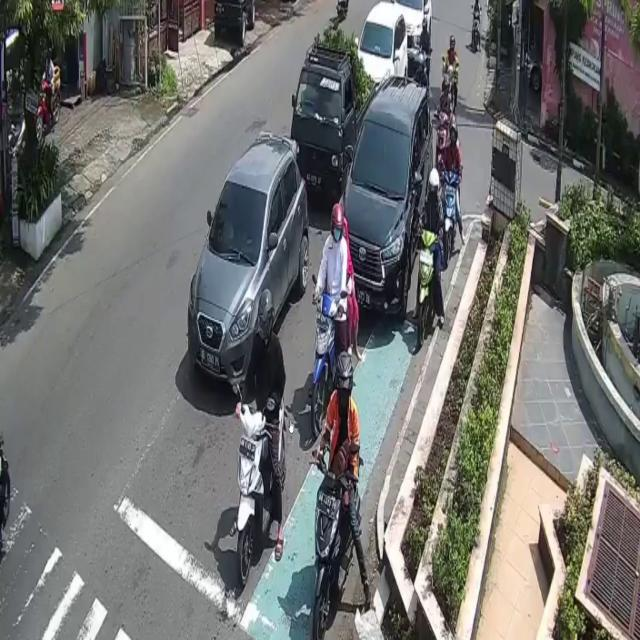bus: (234, 390, 290, 583), (313, 458, 360, 640), (314, 292, 343, 430), (442, 169, 460, 265), (420, 230, 434, 342)
motorcycle: (188, 131, 308, 393), (341, 77, 434, 322), (290, 42, 376, 200), (358, 0, 409, 84), (396, 0, 437, 55)
